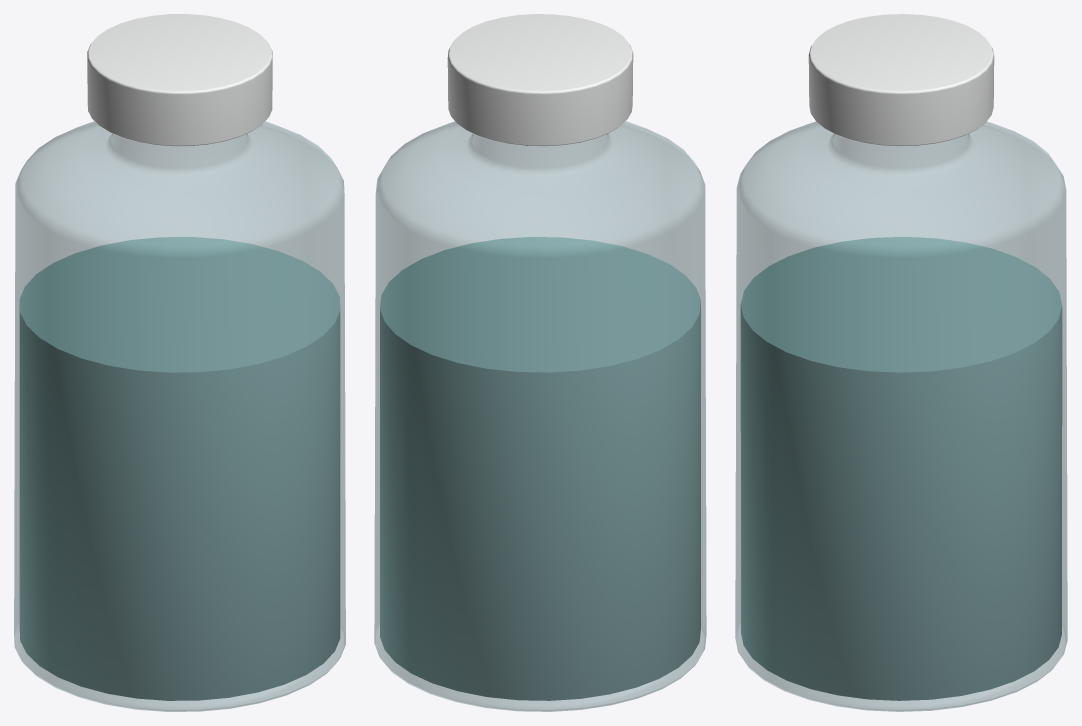
The model's file is Medicine.fbx.
3 views of the same model, side by side, from view 1: azimuth 30°, elevation 25°; view 2: azimuth 150°, elevation 25°; view 3: azimuth 270°, elevation 25° (orthographic).
Parts seen in each view (by area): view 1: Medicine; view 2: Medicine; view 3: Medicine.
Part boxes in pixels (x1,y1,x2,y2): Medicine: (14,14,345,711); Medicine: (374,14,706,711); Medicine: (735,14,1067,711).
Size of the model in its own units: 4.12 by 8.14 by 4.12.
